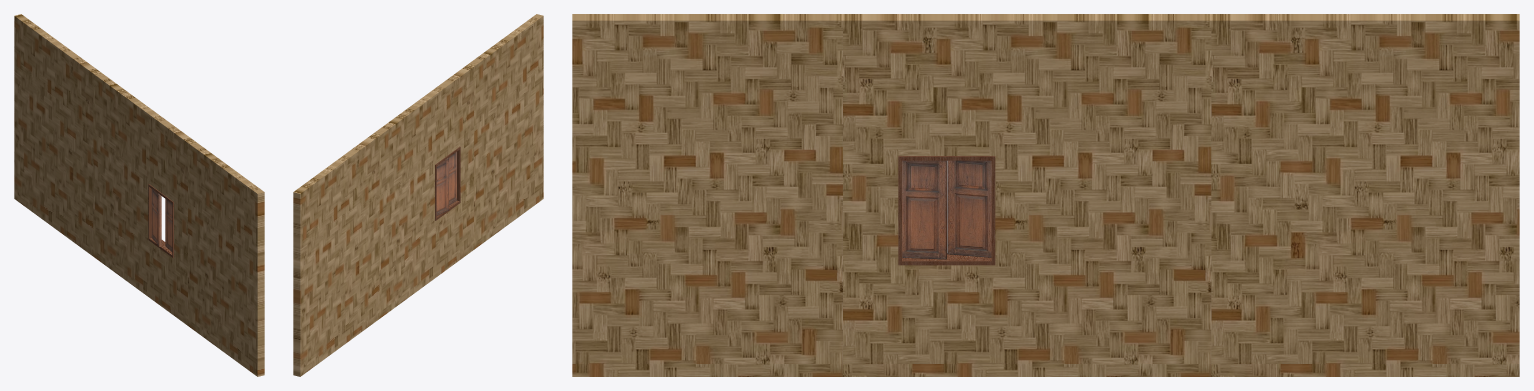
The model's file is R3_Kiri.fbx.
3 views of the same model, side by side, from view 1: azimuth 30°, elevation 25°; view 2: azimuth 150°, elevation 25°; view 3: azimuth 270°, elevation 25° (orthographic). The views are drawn at different scales.
Visible parts, largest first — view 1: T_Kiri_R3; view 2: T_Kiri_R3; view 3: T_Kiri_R3.
Boxes of the visible parts, x1=… form: T_Kiri_R3: x1=14, y1=14, x2=264, y2=376; T_Kiri_R3: x1=293, y1=14, x2=543, y2=376; T_Kiri_R3: x1=572, y1=14, x2=1519, y2=376.
Size of the model in its own units: 0.3948 by 7.35 by 17.72.
Materials: 3 (3 with a texture image).
